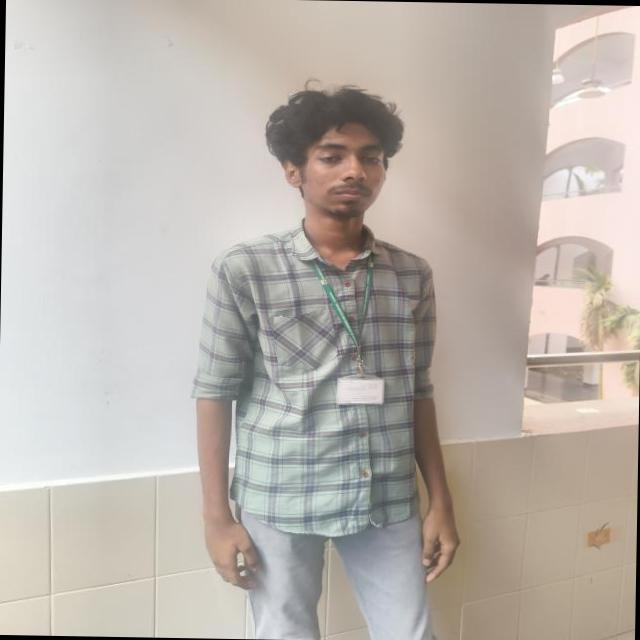id_card: (314, 250, 385, 408)
